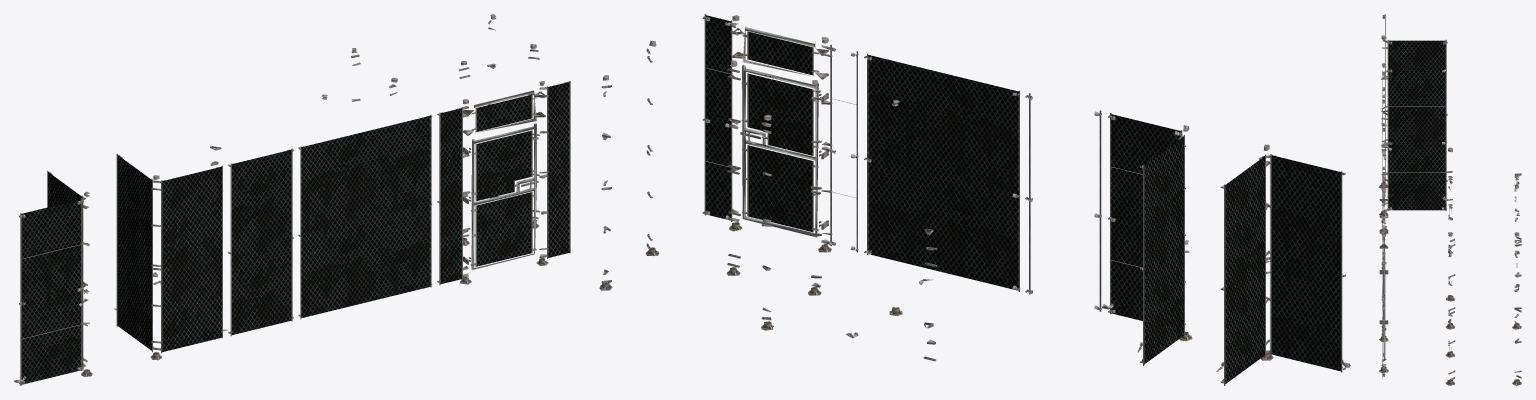
Rendered from modular_chainlink_fence.glb.
3 views of the same model, side by side, from view 1: azimuth 30°, elevation 25°; view 2: azimuth 150°, elevation 25°; view 3: azimuth 270°, elevation 25° (orthographic). The views are drawn at different scales.
Visible parts, largest first — view 1: modular_chainlink_fence_double, modular_chainlink_fence_corner_outer, modular_chainlink_fence_corner_inner, modular_chainlink_fence_door_frame, modular_chainlink_fence, modular_chainlink_fence_door_gate; view 2: modular_chainlink_fence_double, modular_chainlink_fence_corner_inner, modular_chainlink_fence_corner_outer, modular_chainlink_fence_door_gate, modular_chainlink_fence_door_frame, modular_chainlink_fence; view 3: modular_chainlink_fence_corner_outer, modular_chainlink_fence_corner_inner, modular_chainlink_fence_door_frame, modular_chainlink_fence_door_gate, modular_chainlink_fence_start_01_corner_02, modular_chainlink_fence_start_01_corner_01, modular_chainlink_fence_end_02, modular_chainlink_fence_end_01, modular_chainlink_post_middle.
Part boxes in pixels (bbox=[...]): modular_chainlink_fence_double: bbox=[298, 114, 432, 319]; modular_chainlink_fence_corner_outer: bbox=[114, 153, 227, 360]; modular_chainlink_fence_corner_inner: bbox=[14, 170, 92, 385]; modular_chainlink_fence_door_frame: bbox=[437, 80, 570, 285]; modular_chainlink_fence: bbox=[228, 148, 293, 336]; modular_chainlink_fence_door_gate: bbox=[470, 123, 536, 270]; modular_chainlink_fence_double: bbox=[864, 53, 1020, 291]; modular_chainlink_fence_corner_inner: bbox=[1216, 144, 1350, 385]; modular_chainlink_fence_corner_outer: bbox=[1102, 113, 1192, 365]; modular_chainlink_fence_door_gate: bbox=[741, 65, 819, 237]; modular_chainlink_fence_door_frame: bbox=[702, 14, 858, 252]; modular_chainlink_fence: bbox=[1025, 93, 1101, 311]; modular_chainlink_fence_corner_outer: bbox=[1379, 63, 1452, 234]; modular_chainlink_fence_corner_inner: bbox=[1379, 14, 1452, 188]; modular_chainlink_fence_door_frame: bbox=[1379, 183, 1388, 378]; modular_chainlink_fence_door_gate: bbox=[1382, 238, 1385, 358]; modular_chainlink_fence_start_01_corner_02: bbox=[1512, 232, 1521, 385]; modular_chainlink_fence_start_01_corner_01: bbox=[1445, 232, 1455, 385]; modular_chainlink_fence_end_02: bbox=[1512, 176, 1521, 329]; modular_chainlink_fence_end_01: bbox=[1445, 176, 1454, 329]; modular_chainlink_post_middle: bbox=[1445, 204, 1454, 357].
Size of the model in its own units: 8.11 by 2.5 by 2.15.
Materials: 2 (2 with a texture image).
